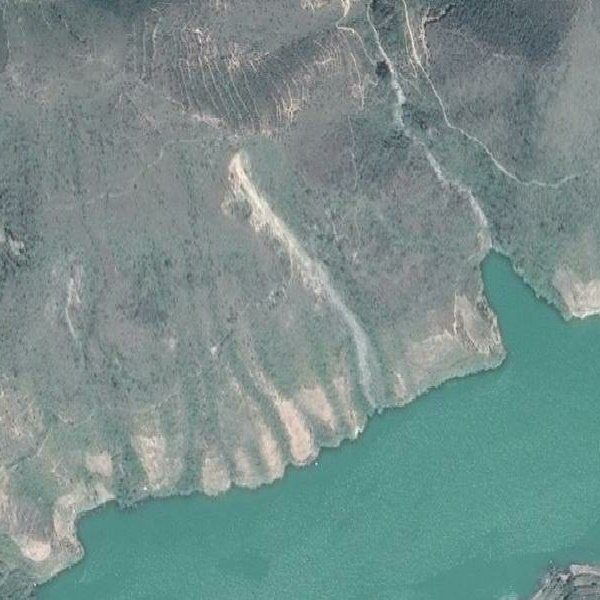slope: (217, 146, 334, 307), (395, 289, 494, 391), (552, 266, 599, 317)
